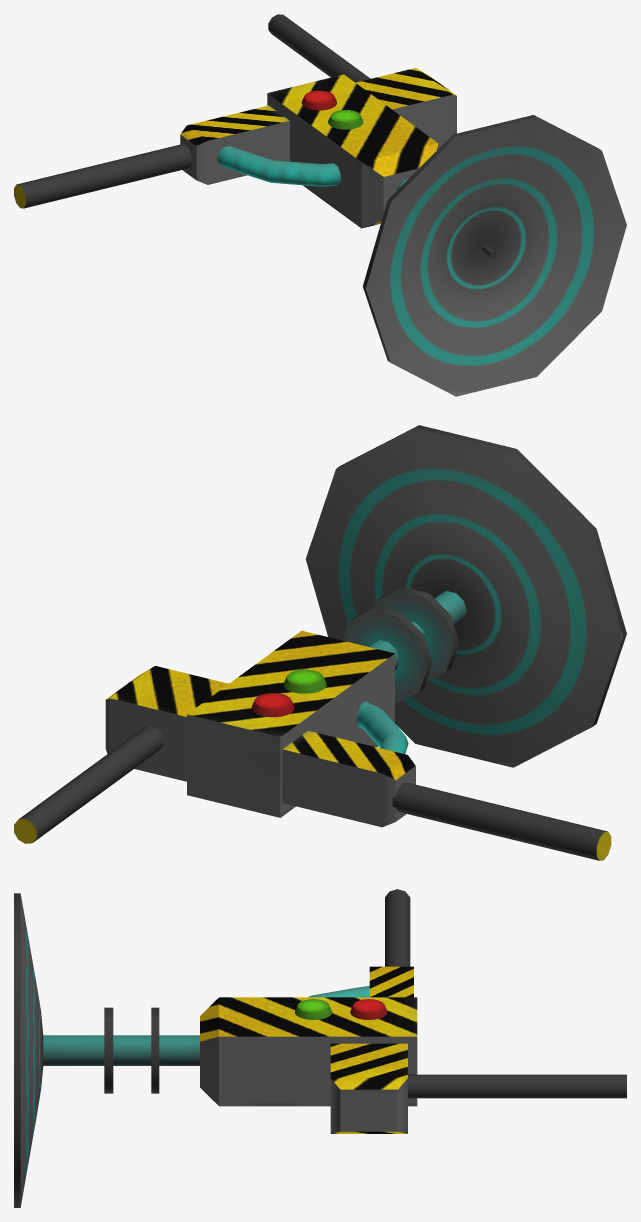
Rendered from Weapon.fbx.
3 views of the same model, one above another, from view 1: azimuth 30°, elevation 25°; view 2: azimuth 150°, elevation 25°; view 3: azimuth 270°, elevation 25° (orthographic). The views are drawn at different scales.
Visible parts, largest first — view 1: Weapon; view 2: Weapon; view 3: Weapon.
Part boxes in pixels (<box>): Weapon: <box>14,14,626,396</box>; Weapon: <box>14,425,626,860</box>; Weapon: <box>14,889,626,1207</box>.
Bounding box in the file's own units: 2.6 × 1.52 × 3.09.
